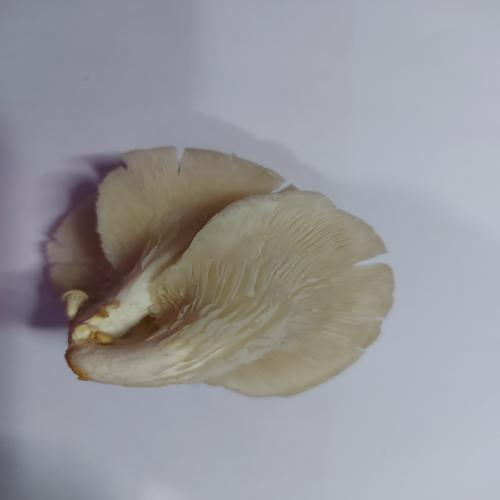Oyster Mushroom: (41, 145, 396, 398)
